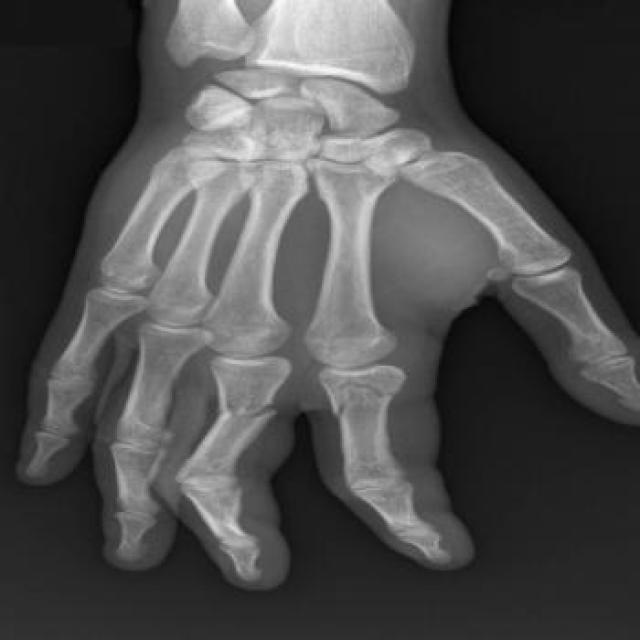Fracture: (317, 369, 423, 417), (200, 392, 296, 431)
